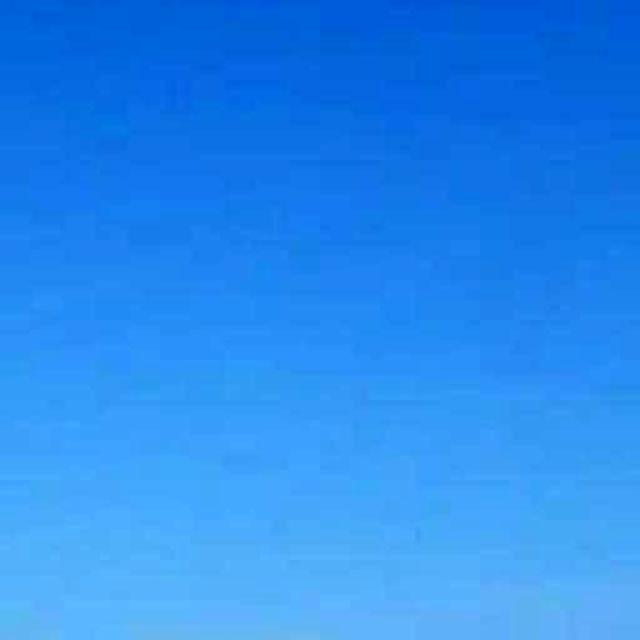drone: (385, 496, 452, 572)
